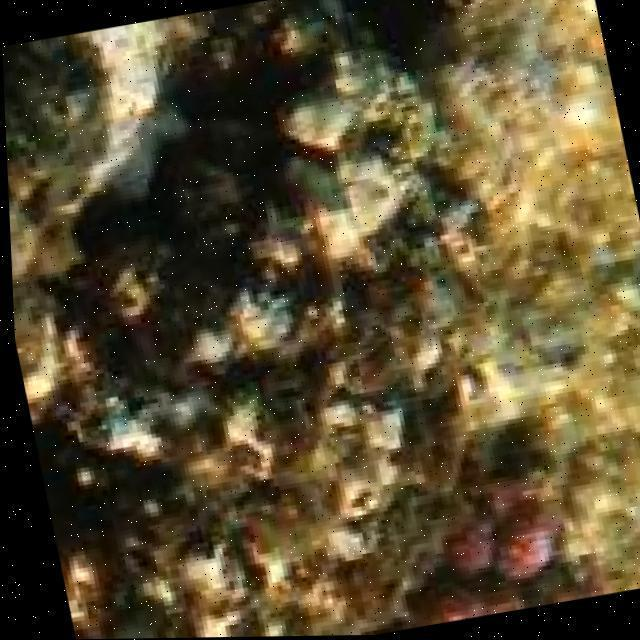Healthy Coral: (429, 476, 601, 614)
